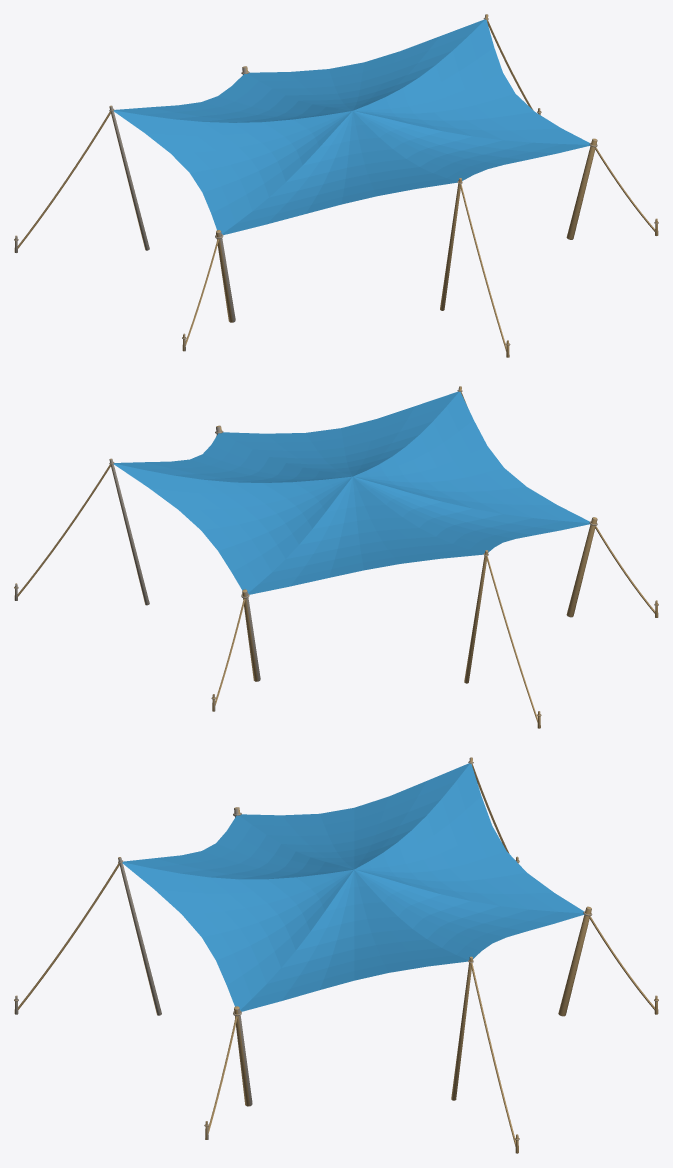
Rendered from nomad_sail_hex_low.fbx.
The picture shows the model from 3 angles, top to bottom: view 1: azimuth 30°, elevation 25°; view 2: azimuth 150°, elevation 25°; view 3: azimuth 270°, elevation 25°; orthographic projection. The views are drawn at different scales.
Parts seen in each view (by area): view 1: S06_Canopy, S06_Mast1_SailRig_MastStub, S06_Mast4_SailRig_MastPole, S06_Mast5_SailRig_MastStub, S06_Mast_SailRig_MastPole; view 2: S06_Canopy, S06_Mast5_SailRig_MastStub, S06_Mast2_SailRig_MastPole, S06_Mast3_SailRig_MastStub, S06_Mast4_SailRig_MastPole; view 3: S06_Canopy, S06_Mast3_SailRig_MastStub, S06_Mast_SailRig_MastPole, S06_Mast1_SailRig_MastStub, S06_Mast2_SailRig_MastPole.
Part boxes in pixels (bbox=[...]): S06_Canopy: bbox=[113, 19, 589, 235]; S06_Mast1_SailRig_MastStub: bbox=[566, 138, 597, 239]; S06_Mast4_SailRig_MastPole: bbox=[109, 105, 149, 250]; S06_Mast5_SailRig_MastStub: bbox=[215, 230, 235, 322]; S06_Mast_SailRig_MastPole: bbox=[440, 178, 462, 310]; S06_Canopy: bbox=[113, 391, 590, 594]; S06_Mast5_SailRig_MastStub: bbox=[566, 517, 597, 617]; S06_Mast2_SailRig_MastPole: bbox=[109, 458, 149, 605]; S06_Mast3_SailRig_MastStub: bbox=[241, 589, 260, 681]; S06_Mast4_SailRig_MastPole: bbox=[464, 550, 488, 683]; S06_Canopy: bbox=[122, 763, 584, 1011]; S06_Mast3_SailRig_MastStub: bbox=[558, 906, 592, 1016]; S06_Mast_SailRig_MastPole: bbox=[118, 857, 161, 1015]; S06_Mast1_SailRig_MastStub: bbox=[233, 1006, 252, 1106]; S06_Mast2_SailRig_MastPole: bbox=[451, 956, 473, 1100].
Bounding box in the file's own units: 927 × 244 × 902.
